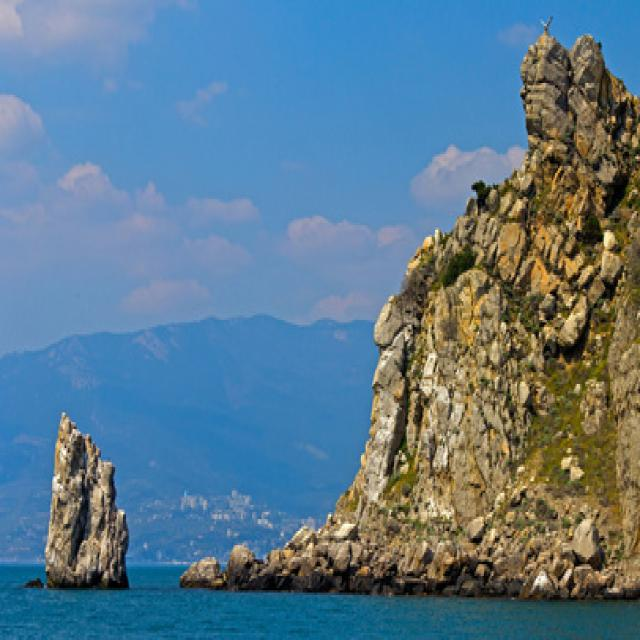reef: (32, 413, 138, 576)
